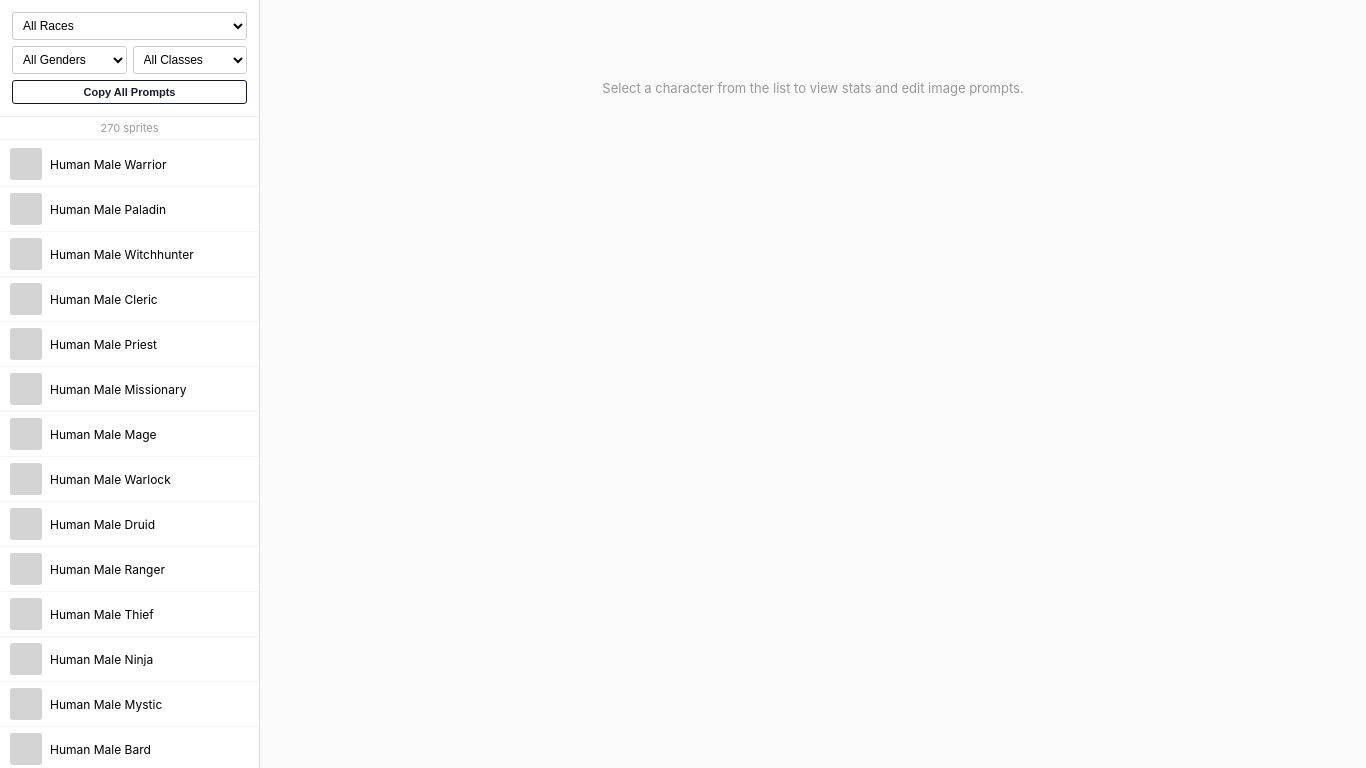
PcSpriteEditor › selecting race dropdown filters list
The image size is (1366, 768).
Check: the text "270 sprites" is shown, box [0,117,259,140]
Step 1. Select "Human" in the 1st dropdown showing "All Races" → [130, 26], box [12,12,247,40]
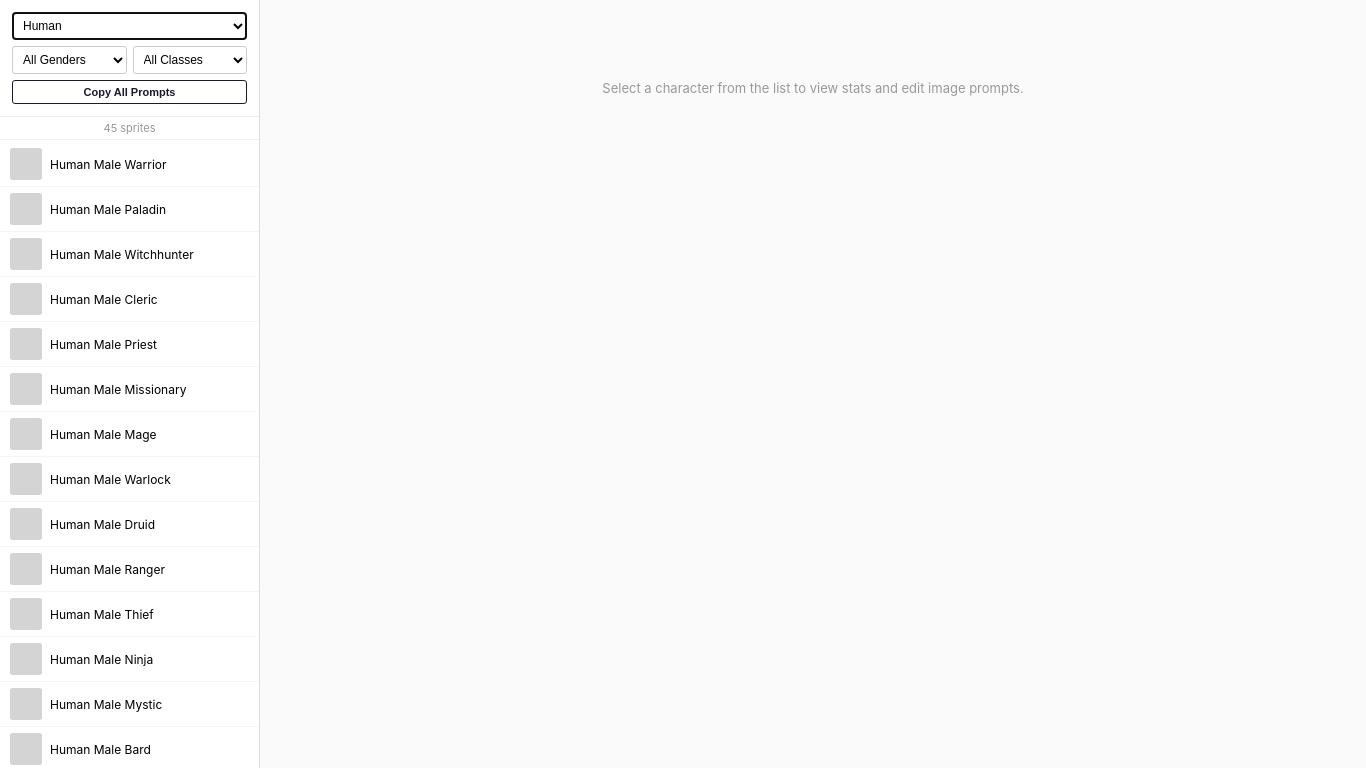
Check: the text "45 sprites" is shown, box [0,117,259,140]
